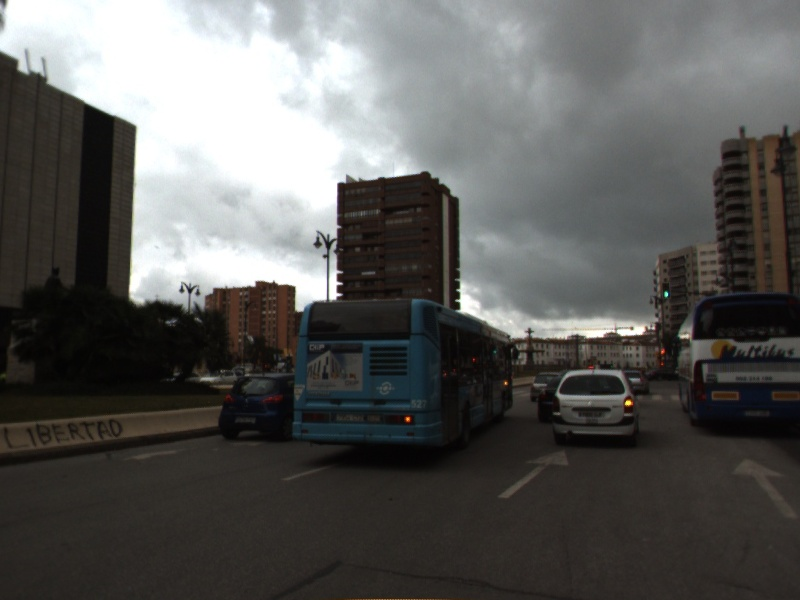STRAIGHT: (729, 456, 799, 520), (495, 447, 571, 500)
